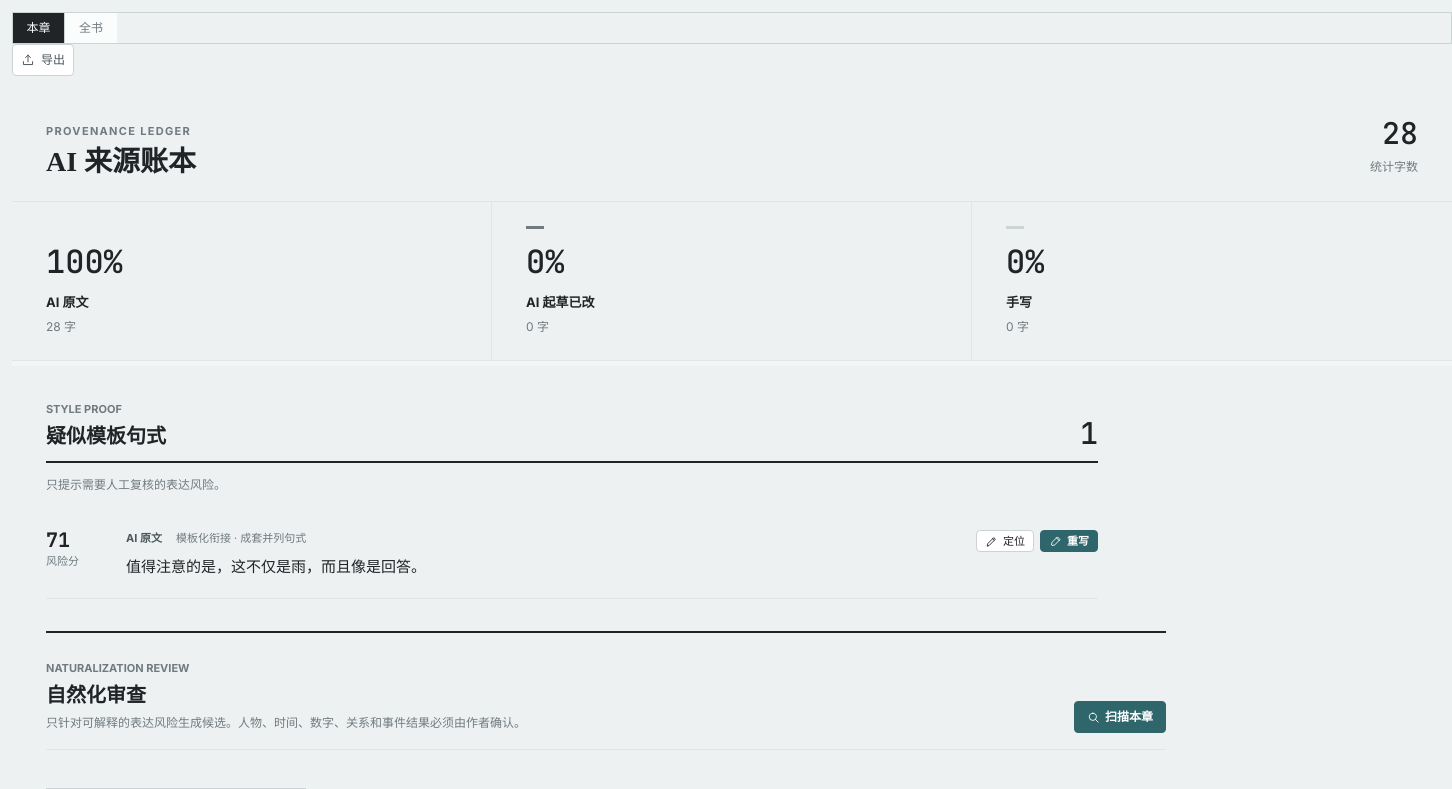
Scenario: AiRatioView sentence proofing › starts an author-reviewed naturalization scan without rewriting the chapter
The width and height of the screenshot is (1452, 789).
Click the button "扫描本章".
click(1120, 717)  # box [1074,701,1166,733]
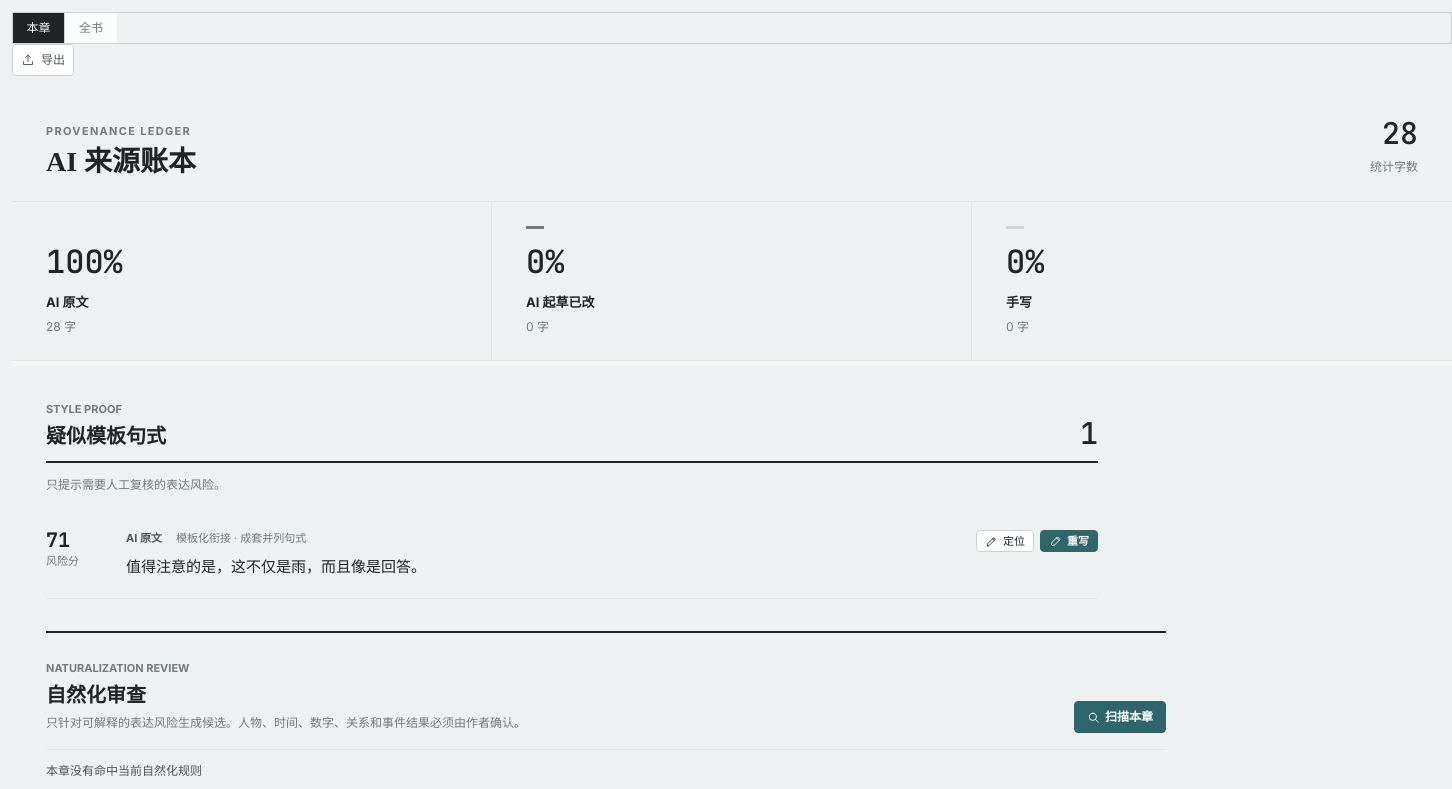
Now the text "本章没有命中当前自然化规则" is shown, box [46,763,202,778]
